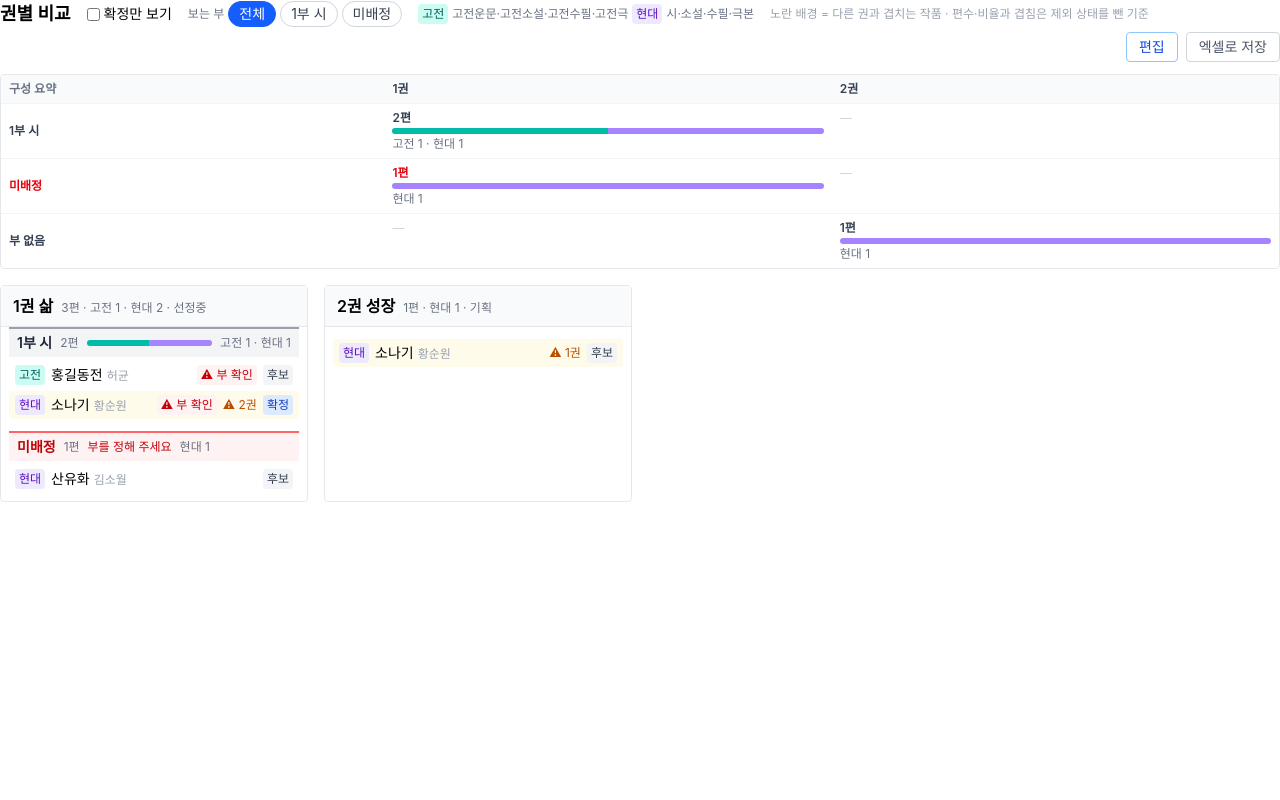
Test case: 편집 중에도 '보는 부'를 쓸 수 있고, 보이지 않는 부로 옮기면 안내가 뜬다
This screenshot has width=1280, height=800.
Check: the text "산유화" is shown, box [51,470,90,487]
Click the button "편집": (1152, 47) [1126,32,1178,62]
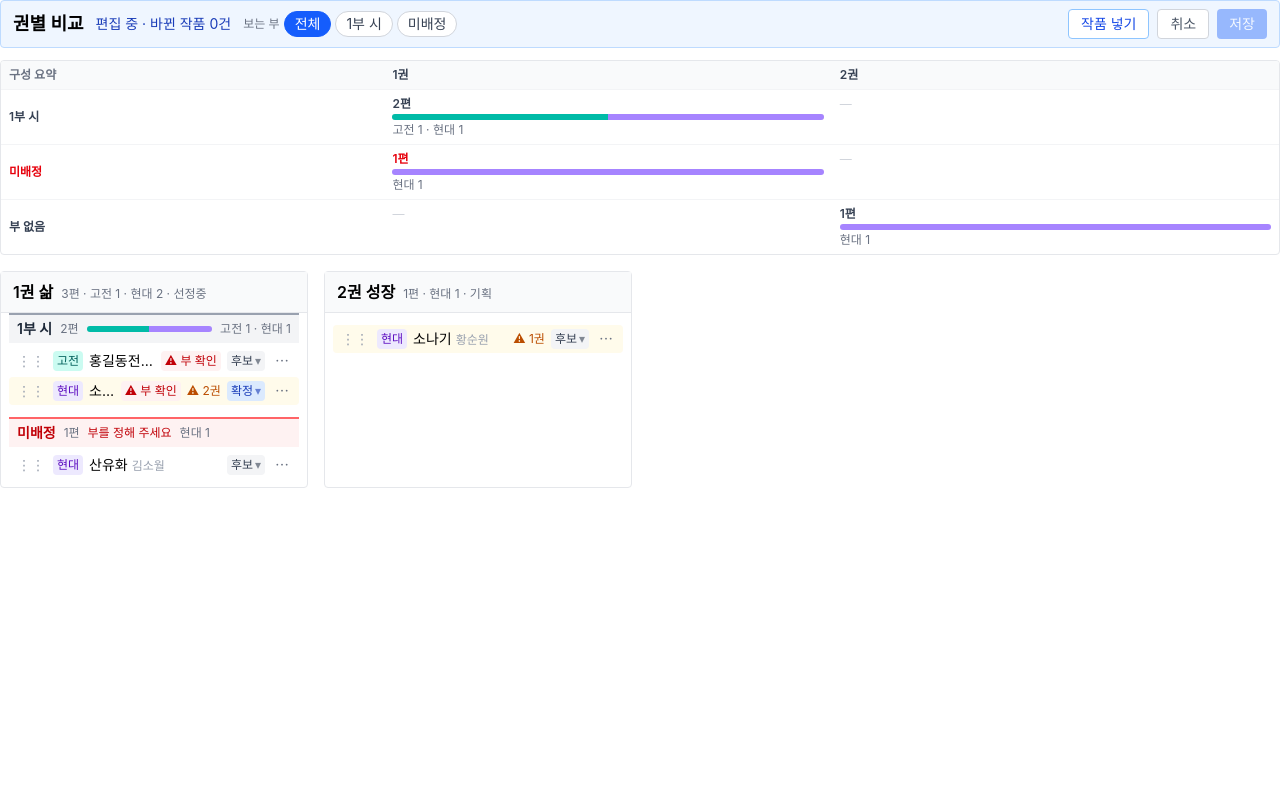
Check: the text "편집 중 · 바뀐 작품 0건" is shown, box [96,14,231,34]
Click the radio button labelled "1부 시": (364, 24) [335,11,393,37]
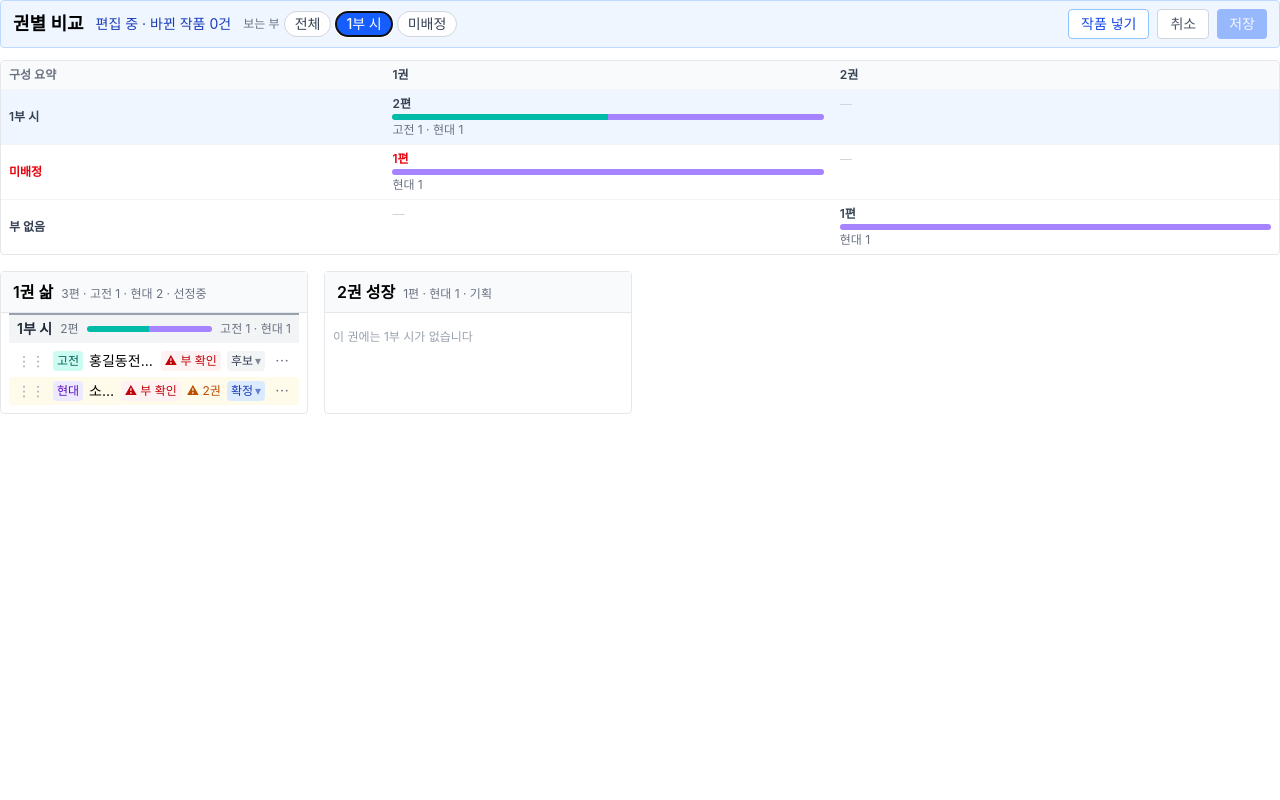
Check: the text "산유화" is gone
Click the button named "「홍길동전」 메뉴": (282, 361) [271,351,293,371]
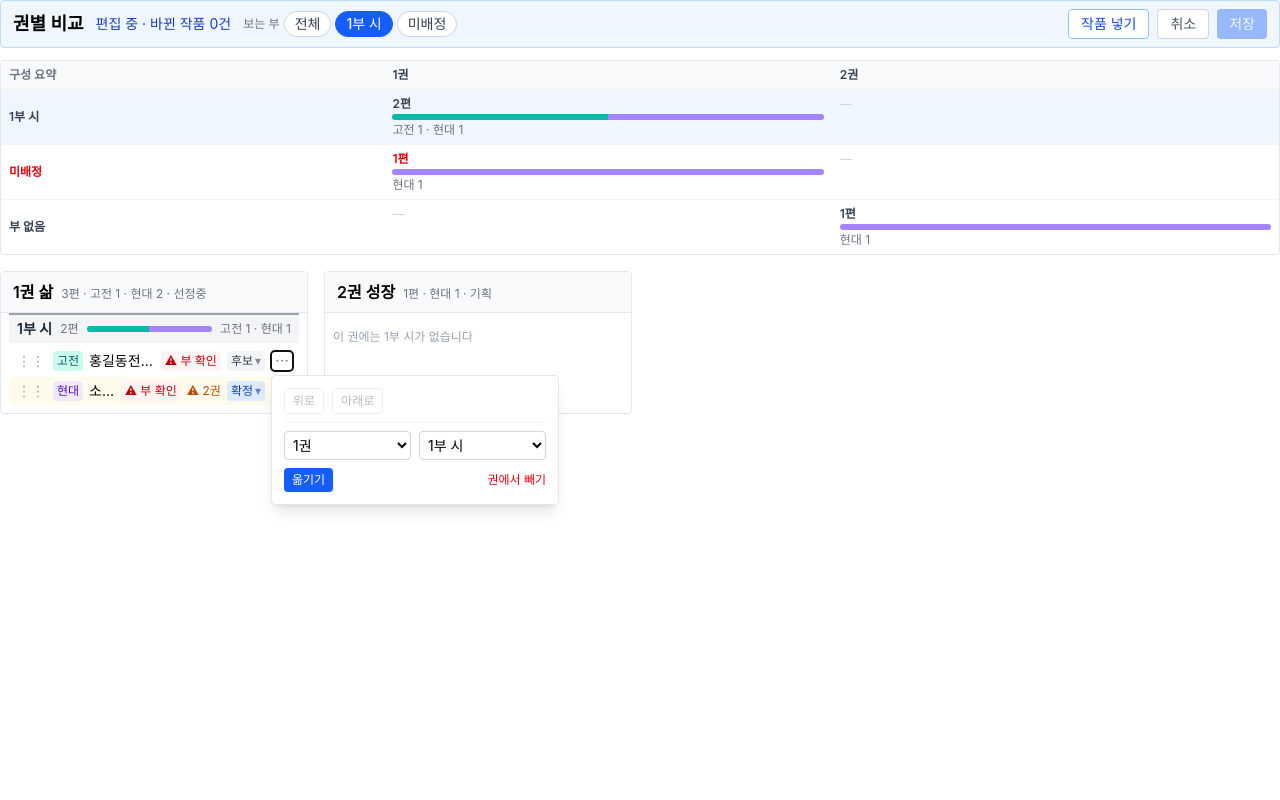
Select "2권" in the dropdown named "권": (348, 446) [284,431,411,460]
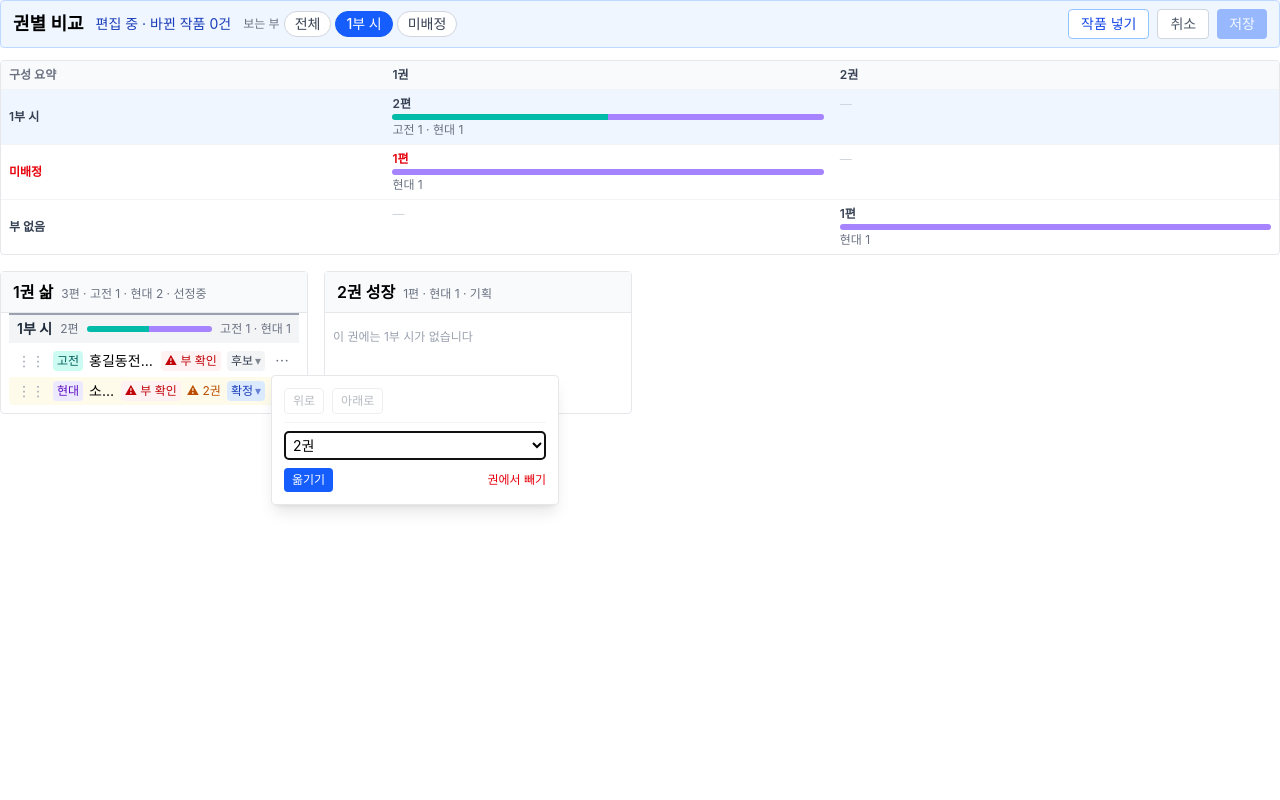
Click the button "옮기기": (309, 480) [284,468,333,492]
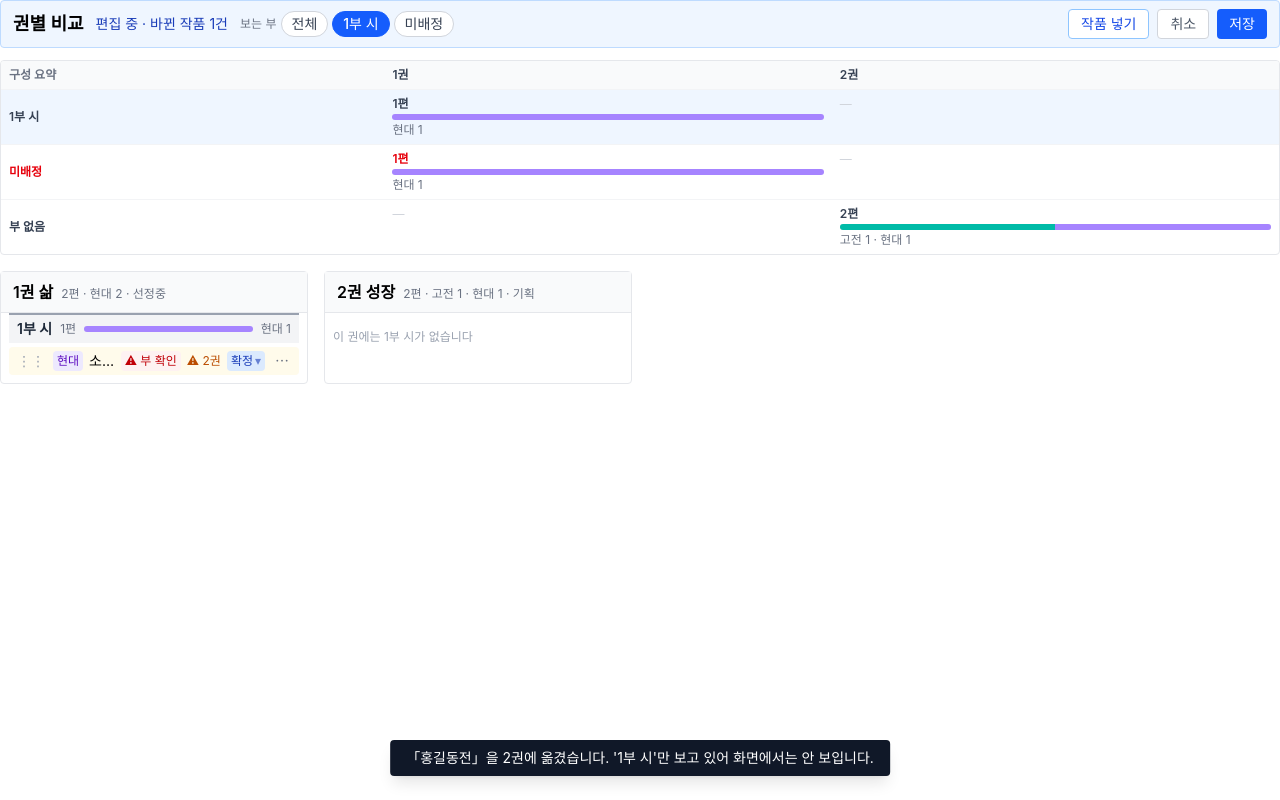
Check: the text "「홍길동전」을 2권에 옮겼습니다. '1부 시'만 보고 있어 화면에서는 안 보입니다." is shown, box [390,740,890,776]
Check: the text "편집 중 · 바뀐 작품 1건" is shown, box [96,14,228,34]
